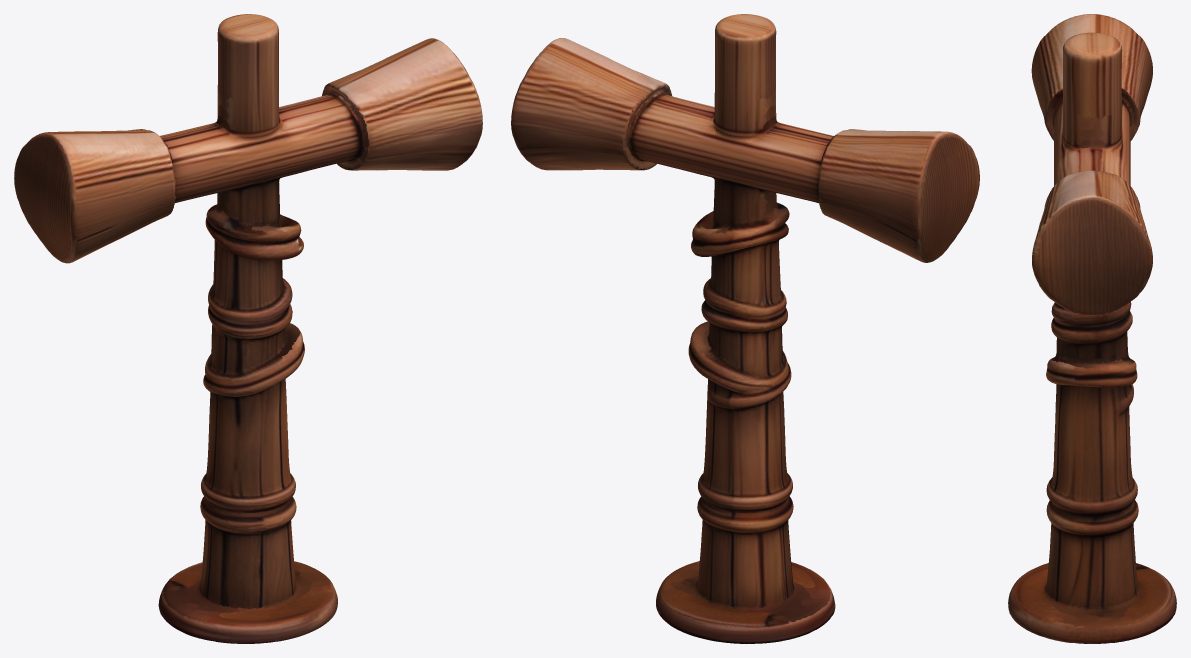
File: poste_luz.glb
The picture shows the model from 3 angles, left to right: view 1: azimuth 30°, elevation 25°; view 2: azimuth 150°, elevation 25°; view 3: azimuth 270°, elevation 25°; orthographic projection. The views are drawn at different scales.
Visible parts, largest first — view 1: tmpgmrmaqb3.ply; view 2: tmpgmrmaqb3.ply; view 3: tmpgmrmaqb3.ply.
Boxes of the visible parts, box(x1,y1,x2,y2) form: tmpgmrmaqb3.ply: box(14, 14, 482, 643); tmpgmrmaqb3.ply: box(511, 14, 979, 643); tmpgmrmaqb3.ply: box(1008, 14, 1176, 643).
Bounding box in the file's own units: 0.7298 × 0.9924 × 0.2678.
Materials: 1 (1 with a texture image).
